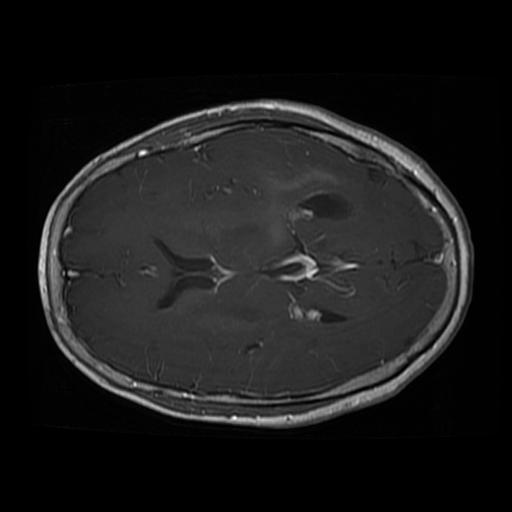glioma: (263, 167, 353, 240)
